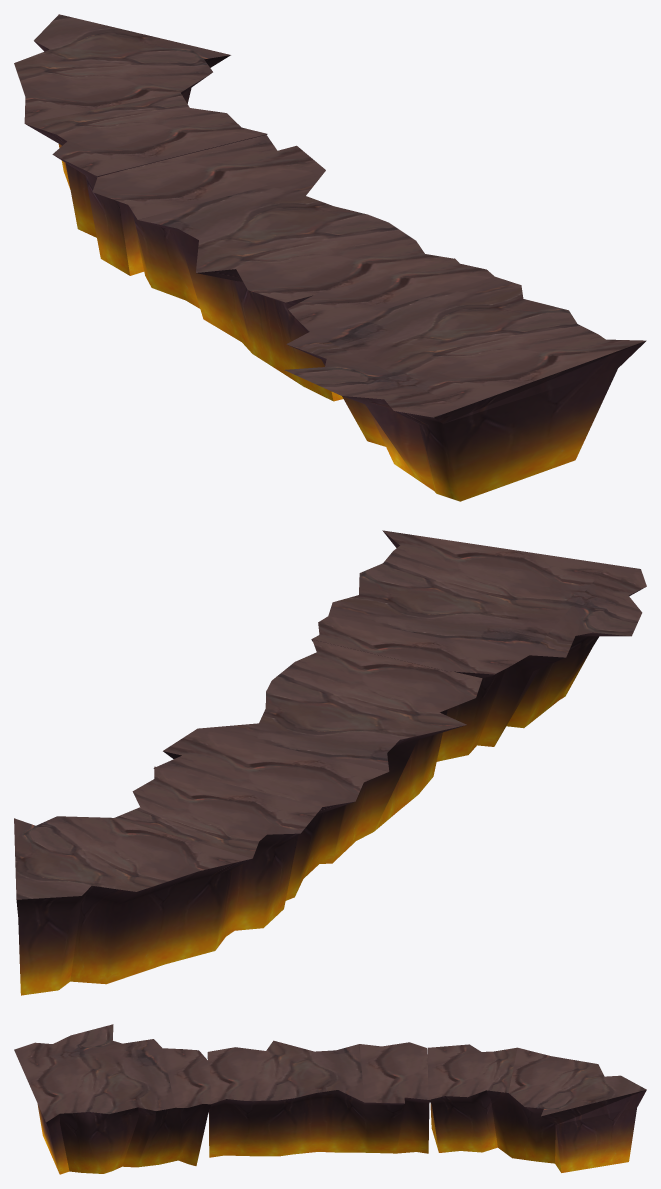
Rendered from FB6_yanshishan.FBX.
The picture shows the model from 3 angles, top to bottom: view 1: azimuth 30°, elevation 25°; view 2: azimuth 150°, elevation 25°; view 3: azimuth 270°, elevation 25°; orthographic projection. The views are drawn at different scales.
Visible parts, largest first — view 1: FB6_yanshishan03, FB6_yanshishan02, FB6_yanshishan01; view 2: FB6_yanshishan01, FB6_yanshishan03, FB6_yanshishan02; view 3: FB6_yanshishan02, FB6_yanshishan03, FB6_yanshishan01.
Part boxes in pixels (x1,y1,x2,y2): FB6_yanshishan03: (284,258,646,501); FB6_yanshishan02: (92,135,452,401); FB6_yanshishan01: (14,14,267,275); FB6_yanshishan01: (14,766,321,995); FB6_yanshishan03: (311,530,646,761); FB6_yanshishan02: (153,639,482,900); FB6_yanshishan02: (207,1040,430,1157); FB6_yanshishan03: (14,1024,211,1174); FB6_yanshishan01: (427,1044,646,1172).
Bounding box in the file's own units: 1648 × 616 × 4675.
